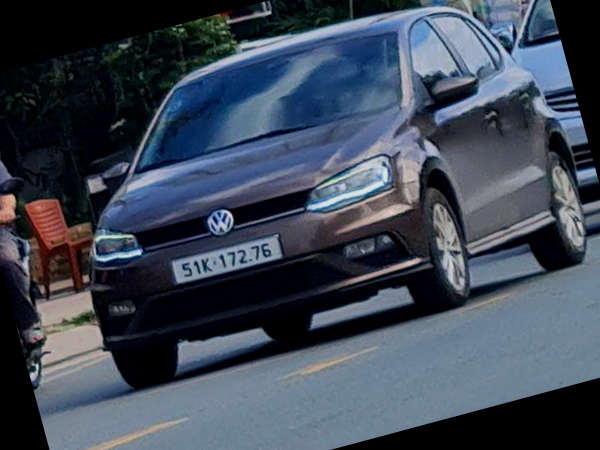lisence: (170, 235, 282, 285)
